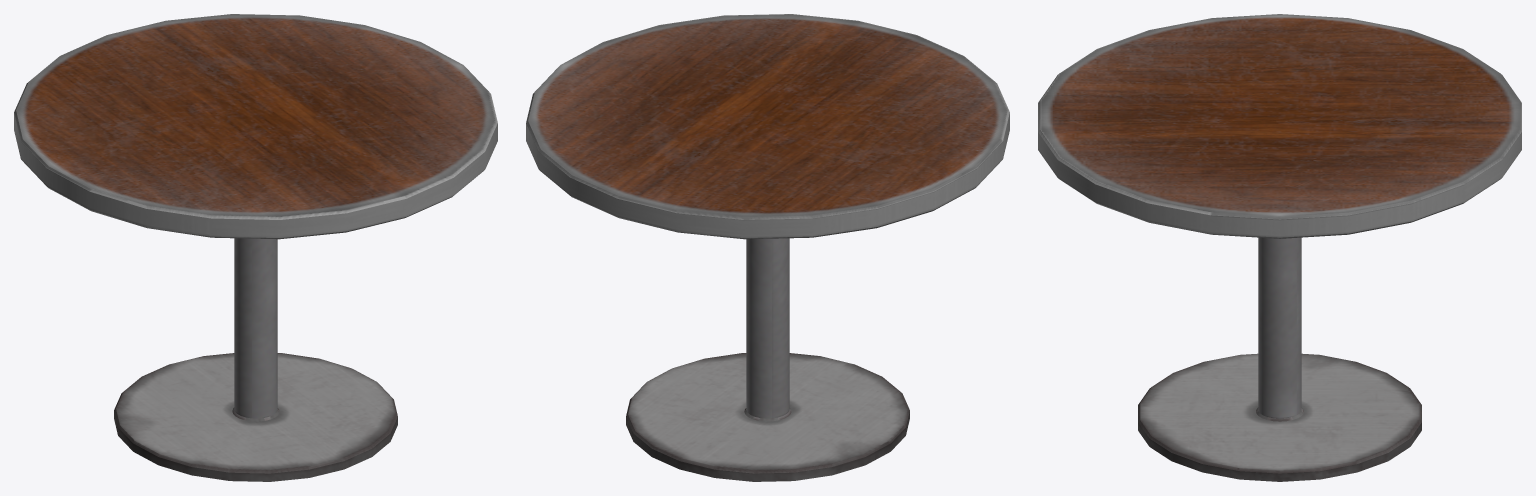
The model's file is Side Table 1.FBX.
3 renders of one model, left to right at view 1: azimuth 30°, elevation 25°; view 2: azimuth 150°, elevation 25°; view 3: azimuth 270°, elevation 25°, orthographic.
Parts seen in each view (by area): view 1: Cylinder004; view 2: Cylinder004; view 3: Cylinder004.
Part boxes in pixels (x1,y1,x2,y2): Cylinder004: (14, 14, 497, 481); Cylinder004: (526, 14, 1009, 481); Cylinder004: (1038, 14, 1521, 481).
Bounding box in the file's own units: 0.9936 × 0.6953 × 0.9944.
1 material, 1 textured.
